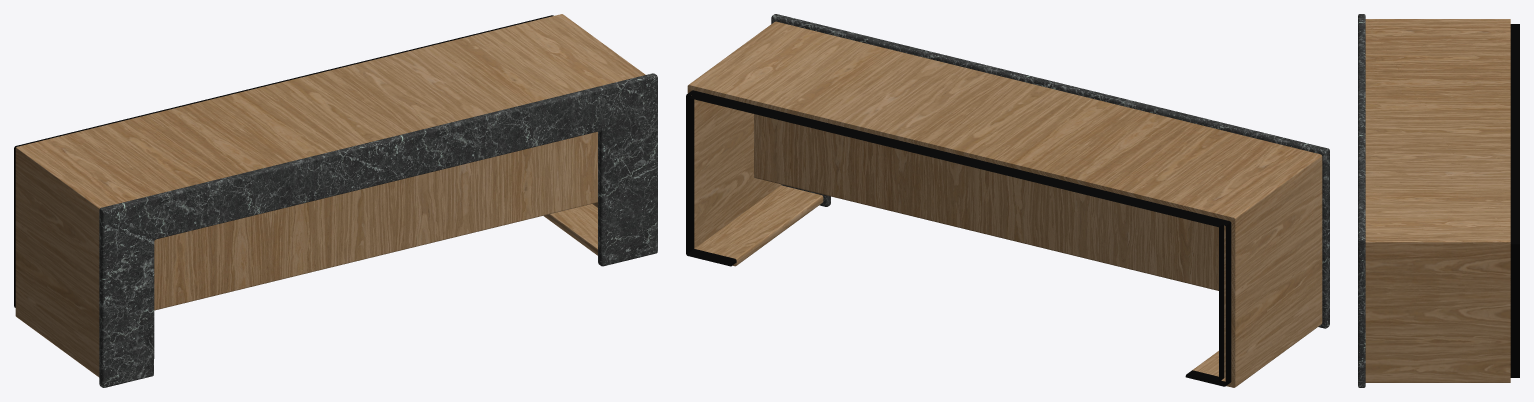
The model's file is reception_desk_low_poly.fbx.
3 views of the same model, side by side, from view 1: azimuth 30°, elevation 25°; view 2: azimuth 150°, elevation 25°; view 3: azimuth 270°, elevation 25° (orthographic). The views are drawn at different scales.
Parts seen in each view (by area): view 1: Bancone.001_0; view 2: Bancone.001_0; view 3: Bancone.001_0.
Boxes of the visible parts, x1,y1,x2,y2 form: Bancone.001_0: (14,14,657,387); Bancone.001_0: (686,14,1329,387); Bancone.001_0: (1358,14,1519,387).
Bounding box in the file's own units: 4.21 × 1.29 × 1.27.
3 materials, 3 textured.
